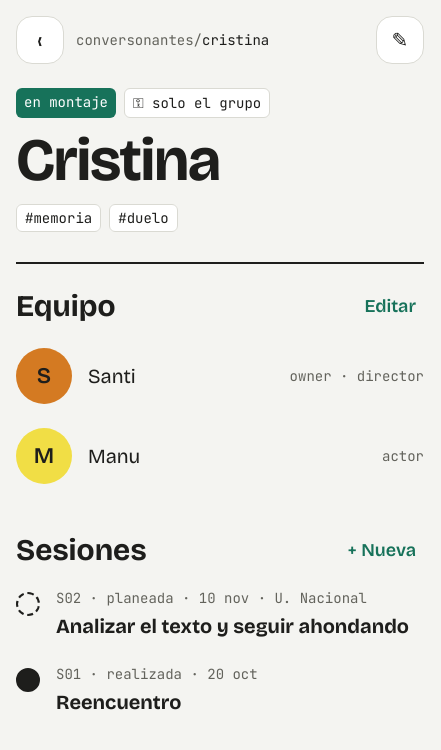
sessions on screen › opens a project session by its address
Click the link "Analizar el texto y seguir ahondando".
click(240, 614)  # box 56,588 -> 424,640
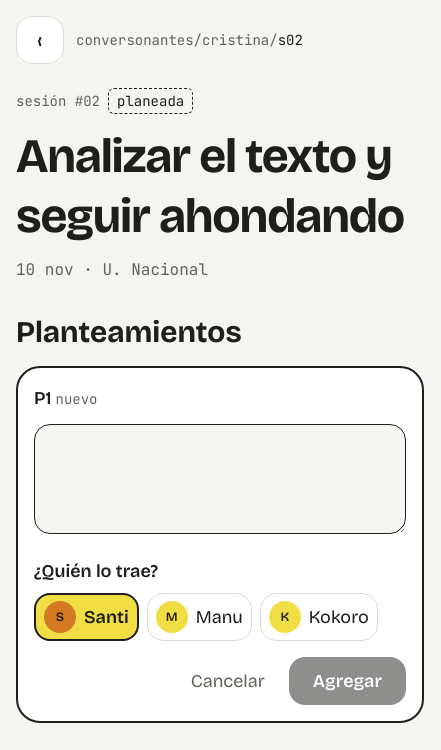
Check: the heading "Analizar el texto y seguir ahondando" is shown, box 16,126 -> 424,246
Check: the text "10 nov · U. Nacional" is shown, box 16,259 -> 208,280
